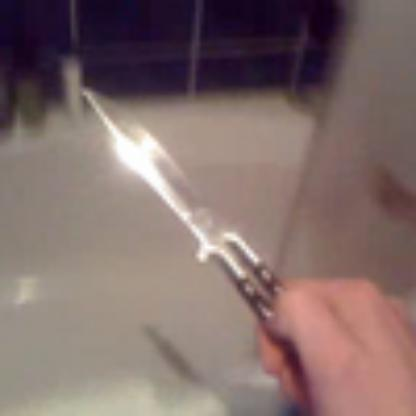knives: (66, 66, 332, 386)
